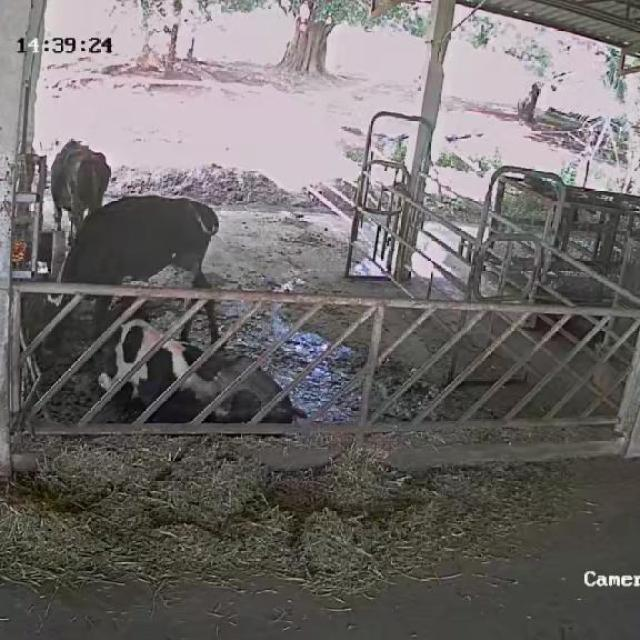lying down: (92, 284, 310, 427)
standing: (31, 189, 220, 352), (44, 140, 118, 240)
